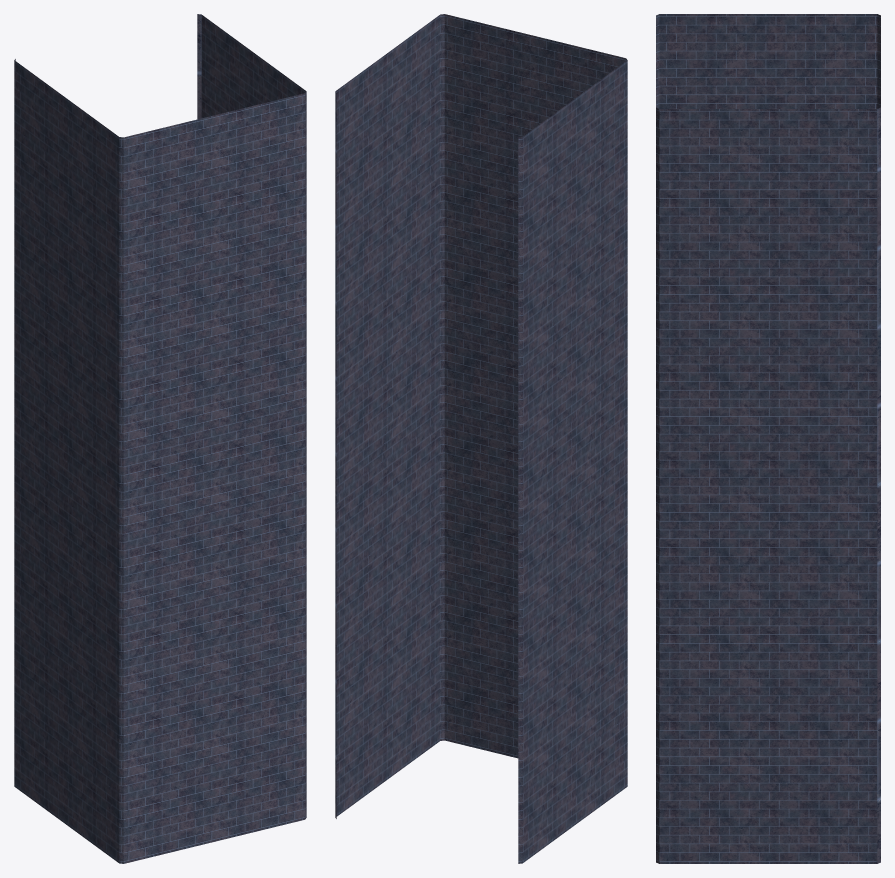
File: building1.fbx
3 views of the same model, side by side, from view 1: azimuth 30°, elevation 25°; view 2: azimuth 150°, elevation 25°; view 3: azimuth 270°, elevation 25° (orthographic). The views are drawn at different scales.
Visible parts, largest first — view 1: pCube4; view 2: pCube4; view 3: pCube4.
Part boxes in pixels (left/top/right/bottom): pCube4: left=14, top=14, right=306, bottom=863; pCube4: left=335, top=14, right=627, bottom=863; pCube4: left=656, top=14, right=880, bottom=863.
Bounding box in the file's own units: 356 × 1320 × 356.
